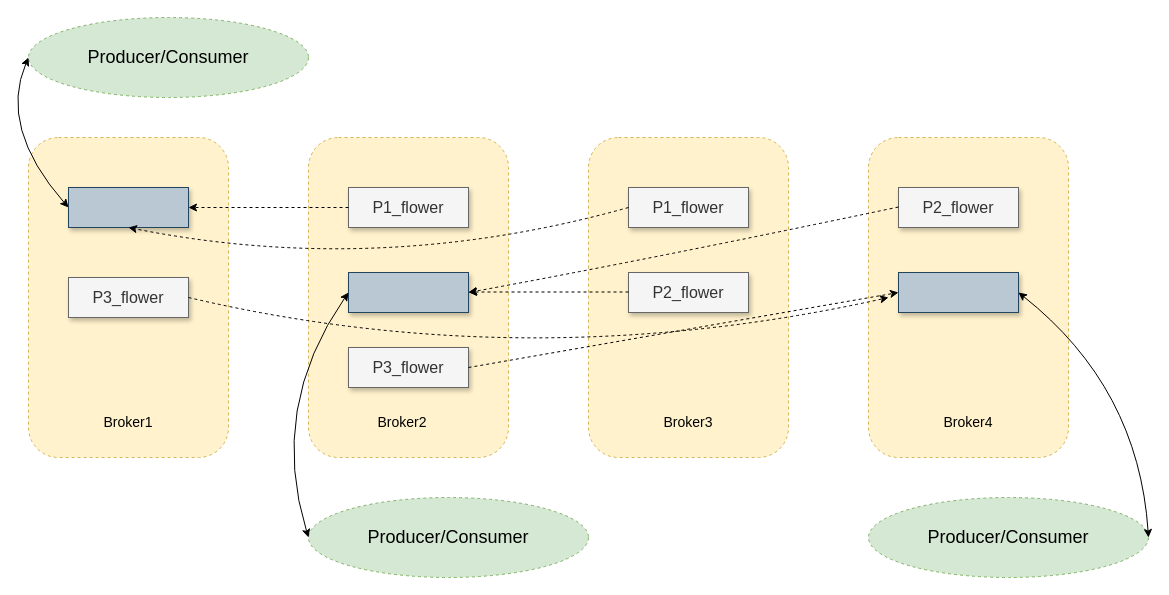
This 1169x595 diagram has some shape labels left out. The centre of each missing label's shape, as x and y in pixels:
P1_leader: the point at 129,208
P2_leader: the point at 409,294
P3_leader: the point at 959,294
